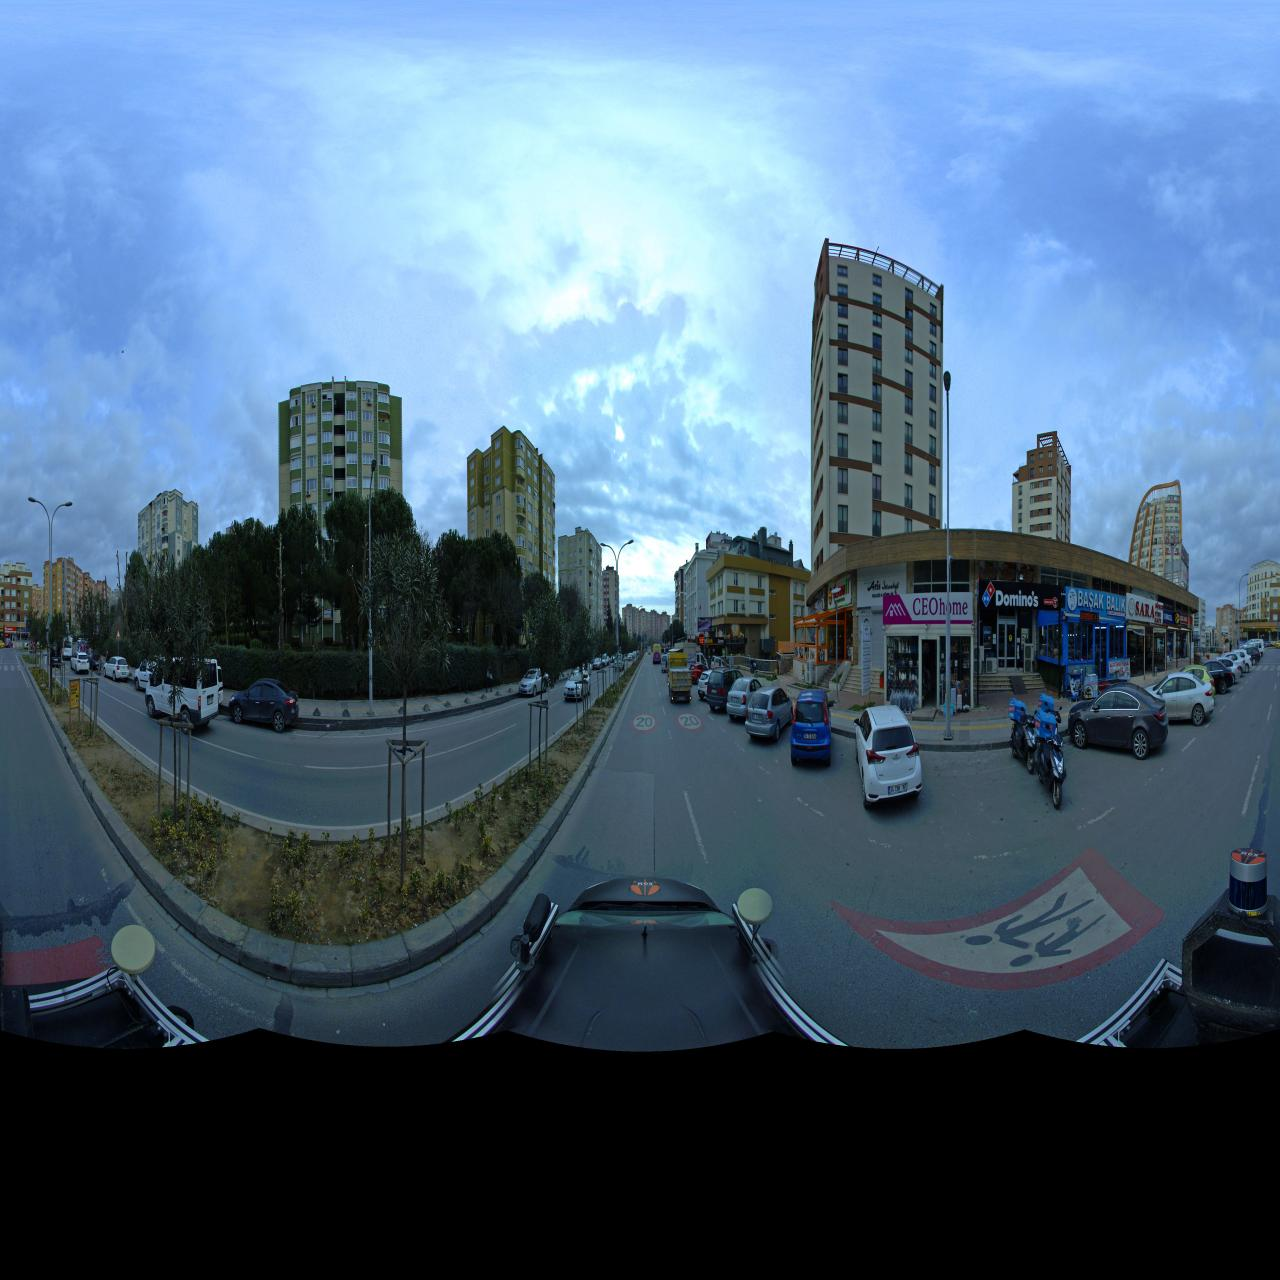SignStore: (884, 592, 973, 628), (982, 581, 1058, 613), (859, 567, 907, 610), (1067, 590, 1126, 617), (1126, 594, 1163, 624), (828, 576, 850, 610), (704, 638, 724, 645), (1164, 611, 1173, 624), (5, 626, 16, 634), (1180, 614, 1187, 624)
